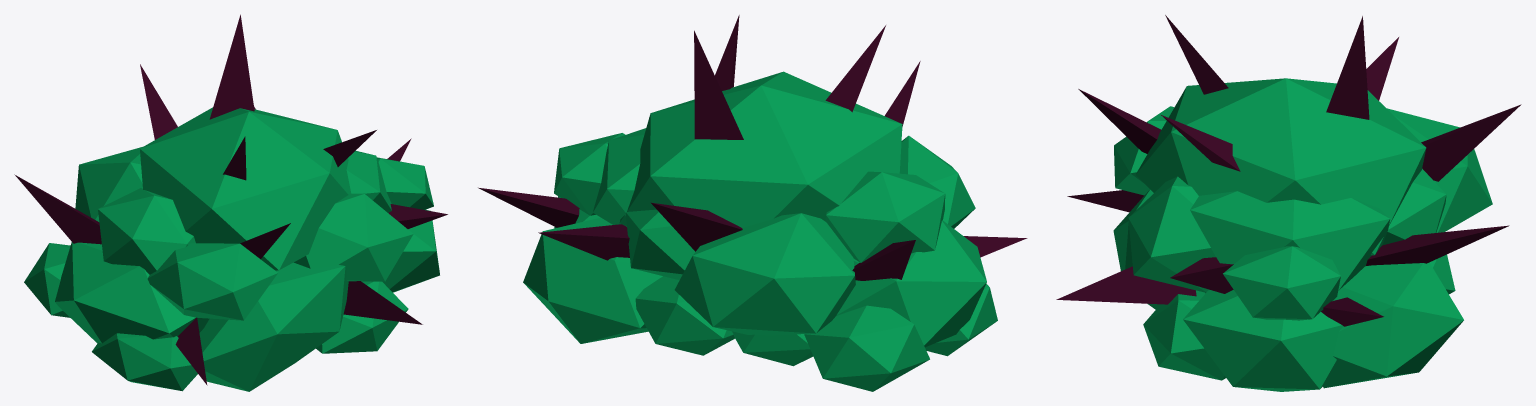
The model's file is ArbustitoMaligno.fbx.
3 views of the same model, side by side, from view 1: azimuth 30°, elevation 25°; view 2: azimuth 150°, elevation 25°; view 3: azimuth 270°, elevation 25° (orthographic). The views are drawn at different scales.
Visible parts, largest first — view 1: ArbustitoMaligno; view 2: ArbustitoMaligno; view 3: ArbustitoMaligno.
Boxes of the visible parts, x1,y1,x2,y2 form: ArbustitoMaligno: (14, 14, 447, 391); ArbustitoMaligno: (478, 15, 1027, 391); ArbustitoMaligno: (1056, 15, 1521, 391).
Size of the model in its own units: 0.308 by 0.2209 by 0.277.
